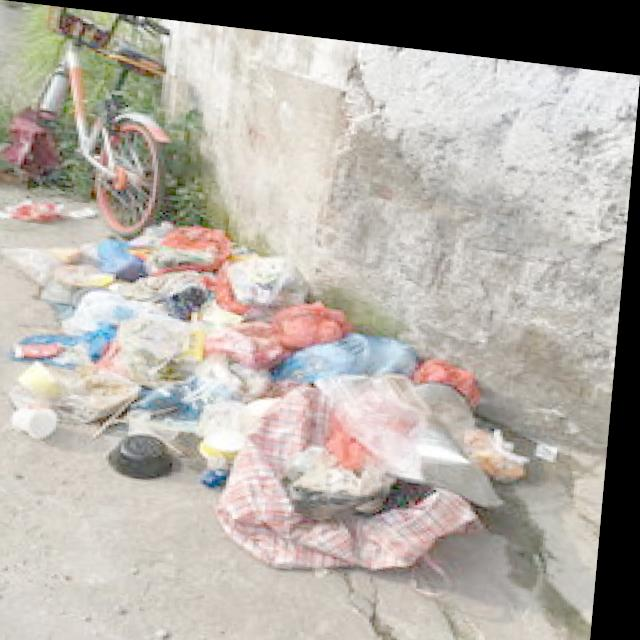garbage: (0, 191, 578, 582)
